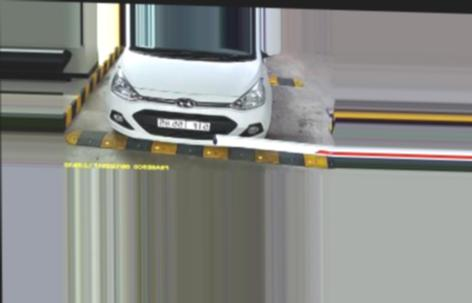License_Plate: (154, 117, 212, 131)
